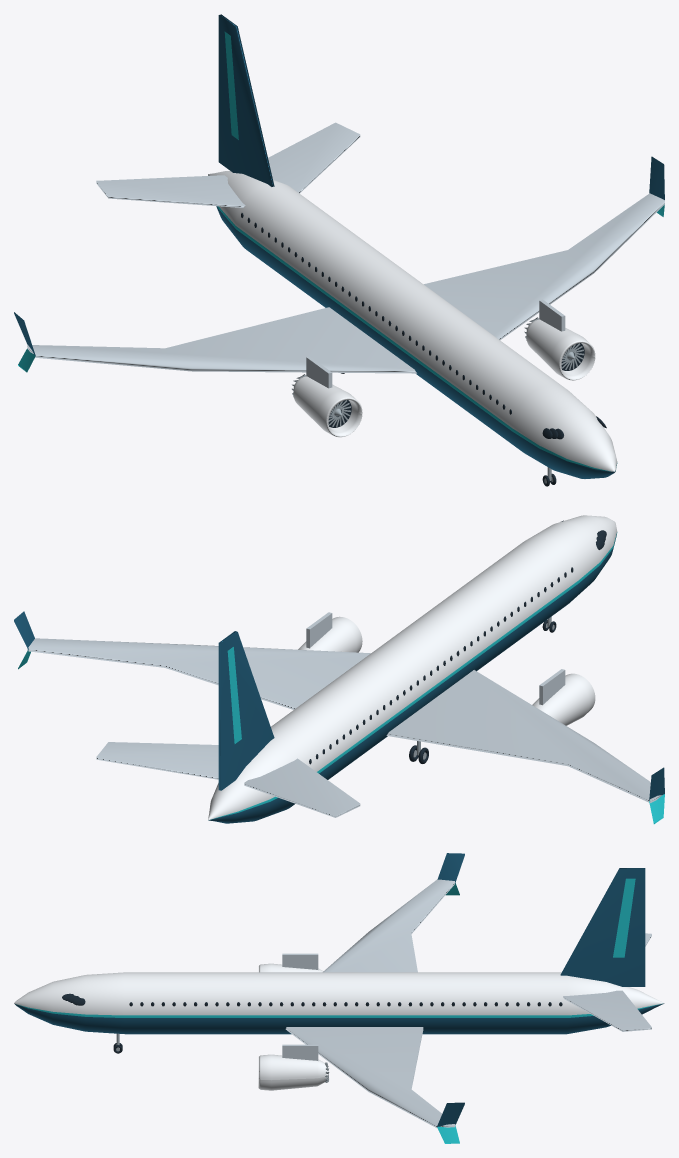
The model's file is 737-max-8.glb.
3 views of the same model, one above another, from view 1: azimuth 30°, elevation 25°; view 2: azimuth 150°, elevation 25°; view 3: azimuth 270°, elevation 25° (orthographic). The views are drawn at different scales.
Visible parts, largest first — view 1: Fuselage_white, WingRight_wing, WingLeft_wing, VerticalTail_paint, Fuselage_paint, HorizontalTailRight_wing, HorizontalTailLeft_wing, EngineRight_white, EngineLeft_white, Fuselage_accent, VerticalTail_accent; view 2: Fuselage_white, WingRight_wing, WingLeft_wing, VerticalTail_paint, Fuselage_paint, HorizontalTailRight_wing, HorizontalTailLeft_wing, EngineRight_white, Fuselage_accent, EngineLeft_white, VerticalTail_accent, CabinWindows_dark (+2 smaller); view 3: Fuselage_white, Fuselage_paint, WingLeft_wing, VerticalTail_paint, WingRight_wing, EngineLeft_white, HorizontalTailLeft_wing, Fuselage_accent, VerticalTail_accent, CabinWindows_dark, EngineRight_wing, EngineLeft_wing (+2 smaller).
Boxes of the visible parts, x1,y1,x2,y2 form: Fuselage_white: [208, 171, 617, 471]; WingRight_wing: [27, 307, 416, 373]; WingLeft_wing: [424, 193, 664, 340]; VerticalTail_paint: [218, 14, 274, 186]; Fuselage_paint: [216, 206, 615, 478]; HorizontalTailRight_wing: [96, 175, 245, 207]; HorizontalTailLeft_wing: [268, 122, 360, 193]; EngineRight_white: [293, 376, 362, 437]; EngineLeft_white: [526, 319, 595, 380]; Fuselage_accent: [217, 206, 617, 471]; VerticalTail_accent: [224, 31, 238, 139]; Fuselage_white: [208, 515, 617, 820]; WingRight_wing: [386, 670, 662, 802]; WingLeft_wing: [27, 638, 370, 709]; VerticalTail_paint: [218, 631, 274, 790]; Fuselage_paint: [208, 534, 616, 823]; HorizontalTailRight_wing: [244, 758, 360, 817]; HorizontalTailLeft_wing: [96, 742, 218, 779]; EngineRight_white: [532, 673, 595, 725]; Fuselage_accent: [211, 532, 617, 819]; EngineLeft_white: [298, 616, 362, 652]; VerticalTail_accent: [227, 647, 241, 743]; CabinWindows_dark: [309, 567, 573, 764]; Fuselage_white: [14, 972, 664, 1015]; Fuselage_paint: [14, 1003, 664, 1034]; WingLeft_wing: [285, 1027, 455, 1128]; VerticalTail_paint: [560, 868, 645, 986]; WingRight_wing: [323, 879, 454, 972]; EngineLeft_white: [258, 1054, 325, 1090]; HorizontalTailLeft_wing: [563, 990, 651, 1031]; Fuselage_accent: [16, 1003, 662, 1017]; VerticalTail_accent: [613, 878, 635, 957]; CabinWindows_dark: [129, 1002, 562, 1006]; EngineRight_wing: [282, 953, 318, 969]; EngineLeft_wing: [282, 1044, 318, 1060].
Bounding box in the file's own units: 35.9 × 12.3 × 39.52.
